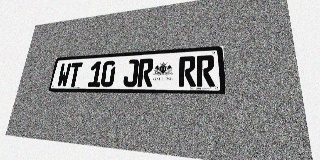0: (100, 60, 116, 87)
1: (87, 61, 103, 87)
J: (122, 59, 139, 87)
R: (196, 55, 215, 87), (178, 56, 196, 87), (137, 58, 154, 87)
T: (67, 62, 83, 87)
W: (56, 63, 72, 87)
